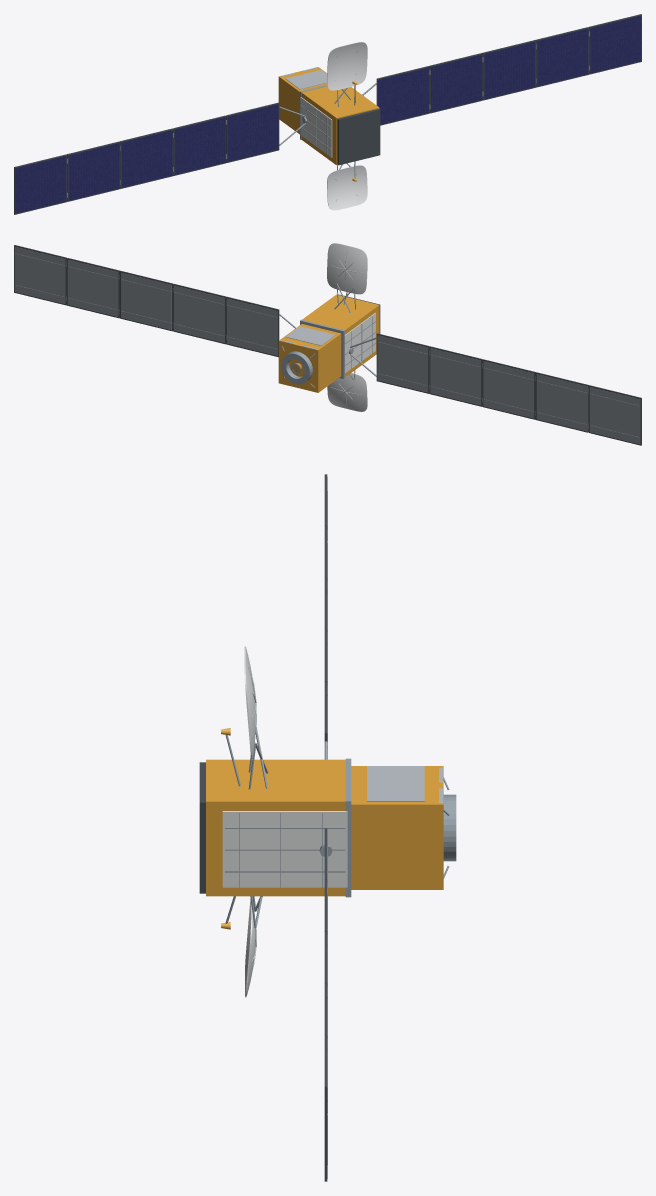
Rendered from intelsat-10-02.glb.
The picture shows the model from 3 angles, top to bottom: view 1: azimuth 30°, elevation 25°; view 2: azimuth 150°, elevation 25°; view 3: azimuth 270°, elevation 25°; orthographic projection. The views are drawn at different scales.
Parts seen in each view (by area): view 1: Solar cell panel (×10), Solar panel frame (×9), Intelsat side reflector (×2), Earth-facing deck, Payload module, Radiator face, Service module, Service bay insulation; view 2: Rear array substrate (×10), Solar panel frame (×10), Intelsat side reflector (×2), Service module, Payload module, Radiator face, Launch adapter ring, Service bay insulation, Module interface; view 3: Payload module, Service module, Radiator face, Service bay insulation.
Part boxes in pixels (x1,y1,x2,y2): Solar cell panel (×10): (15,16,641,213); Solar panel frame (×9): (14,14,641,214); Intelsat side reflector (×2): (327,42,367,210); Earth-facing deck: (337,108,380,165); Payload module: (301,86,379,165); Radiator face: (300,97,332,157); Service module: (278,67,326,134); Service bay insulation: (286,70,326,89); Rear array substrate (×10): (14,246,640,444); Solar panel frame (×10): (14,245,641,445); Intelsat side reflector (×2): (327,243,367,411); Service module: (278,324,341,392); Payload module: (302,294,379,377); Radiator face: (344,313,375,373); Launch adapter ring: (281,351,312,384); Service bay insulation: (286,326,335,345); Module interface: (300,319,344,378); Payload module: (206,759,345,896); Service module: (351,766,443,889); Radiator face: (222,811,347,887); Service bay insulation: (367,766,424,801).
Size of the model in its own units: 34.97 by 8.69 by 6.19.
11 materials, 1 textured.
